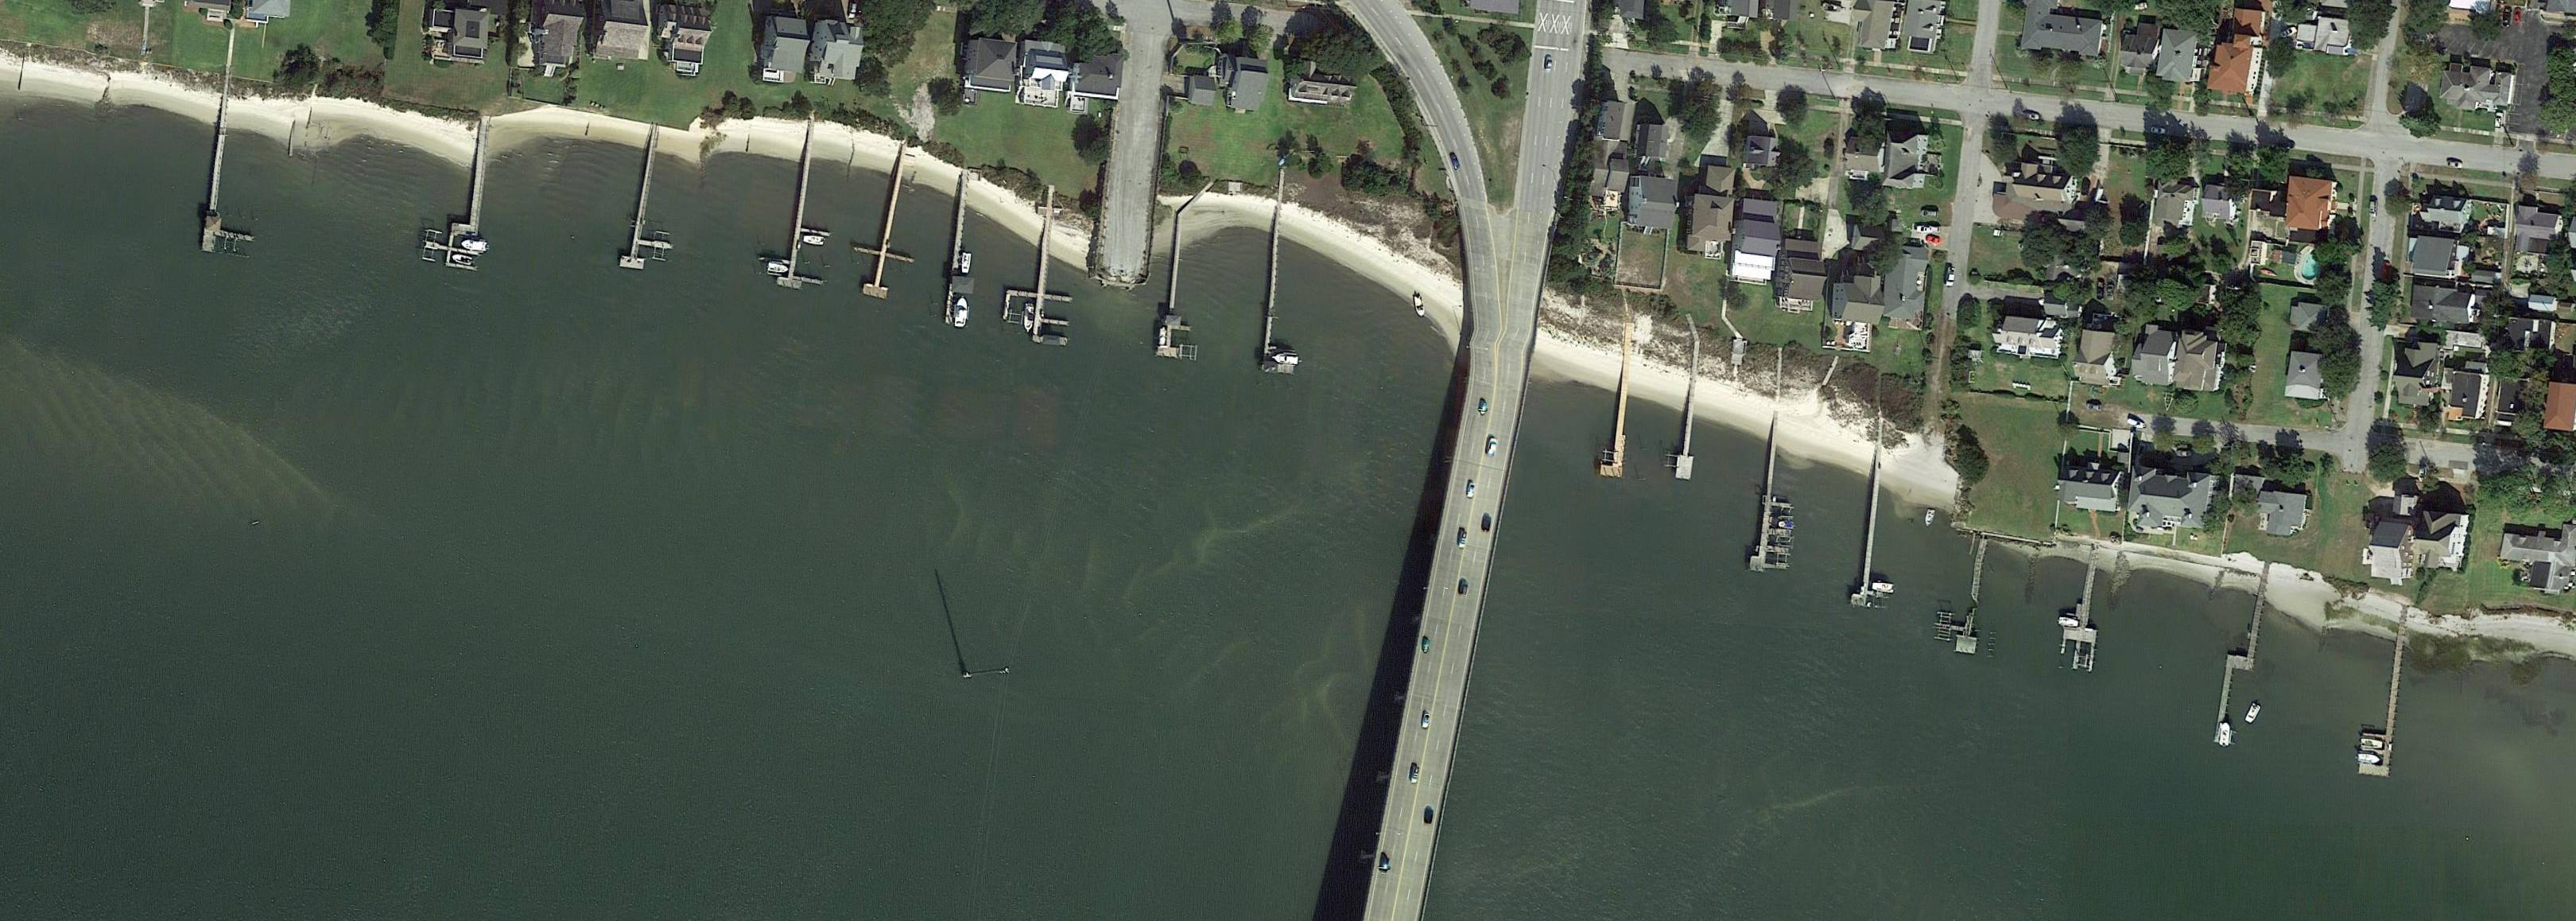bridge: (1391, 328, 1536, 921), (1362, 387, 1492, 921)
harbor: (201, 33, 277, 258), (843, 142, 937, 305), (999, 188, 1083, 347), (775, 124, 844, 293), (420, 121, 492, 271), (2213, 567, 2269, 748), (1851, 422, 1905, 611), (619, 126, 687, 278), (1749, 410, 1804, 577), (2357, 609, 2408, 779), (1930, 532, 1996, 655), (1262, 208, 1309, 375), (1155, 211, 1201, 359), (944, 171, 987, 328), (2058, 548, 2109, 674), (1600, 328, 1639, 478), (1676, 340, 1705, 482)
ship: (952, 296, 969, 328), (2244, 701, 2263, 725), (1272, 351, 1300, 367), (1022, 303, 1035, 333), (1871, 580, 1896, 595), (460, 239, 489, 252), (2219, 721, 2232, 748), (451, 253, 474, 267), (1413, 294, 1427, 317), (2357, 752, 2380, 767), (766, 262, 790, 275), (2361, 737, 2383, 751), (802, 234, 824, 246), (960, 251, 972, 274)
